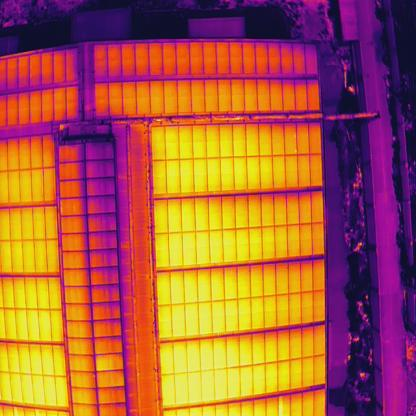diode: (278, 396, 282, 415)
